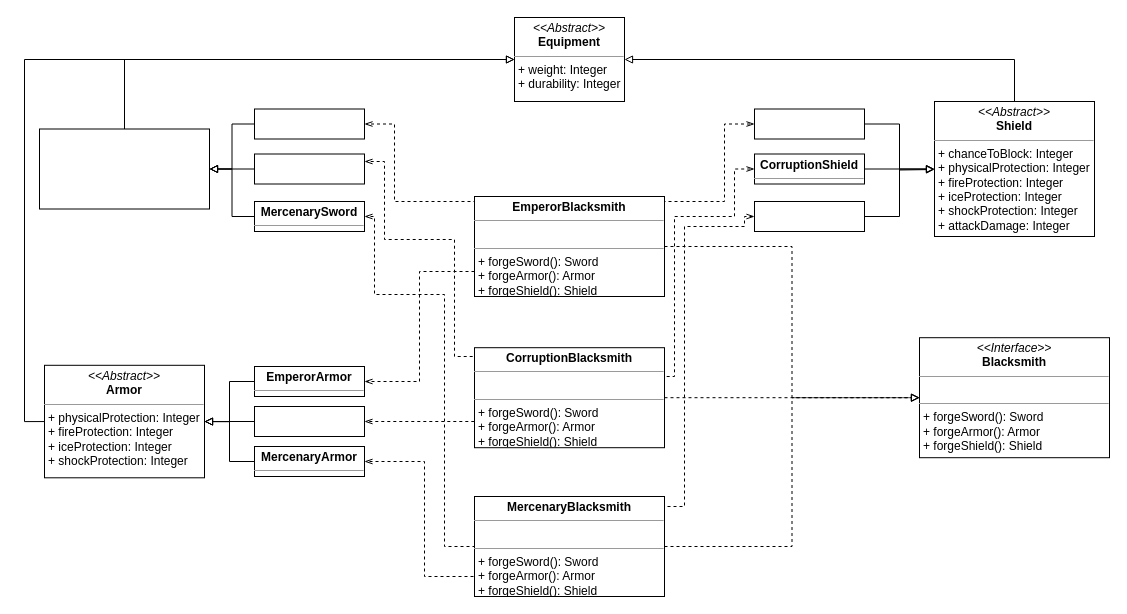
Some shapes in this 1127 by 614 pixel diagram are drawn without their labels. The centre of each missing label's shape, as x and y in pixels:
<<Abstract>> Sword + criticalStrikeChance: Integer + attackDamage: Integer: (x=124, y=168)
CorruptionArmor: (x=309, y=421)
CorruptionSword: (x=309, y=168)
EmperorShield: (x=809, y=123)
EmperorSword: (x=309, y=123)
MercenaryShield: (x=809, y=216)
